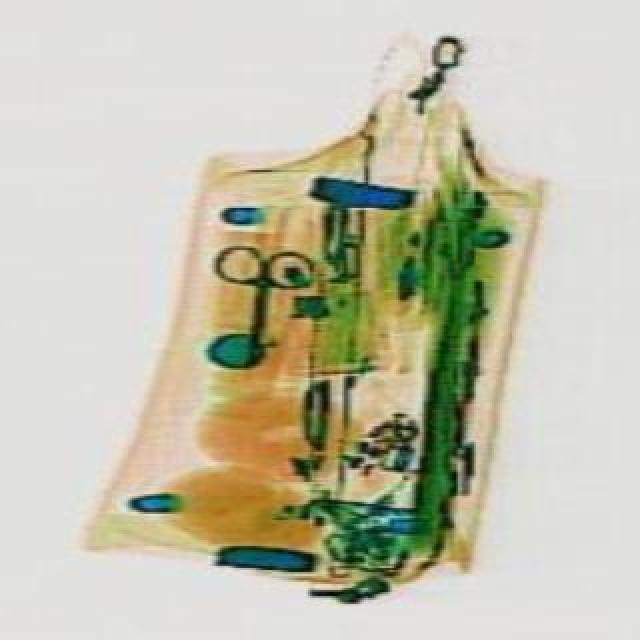pliers: (196, 240, 310, 368)
